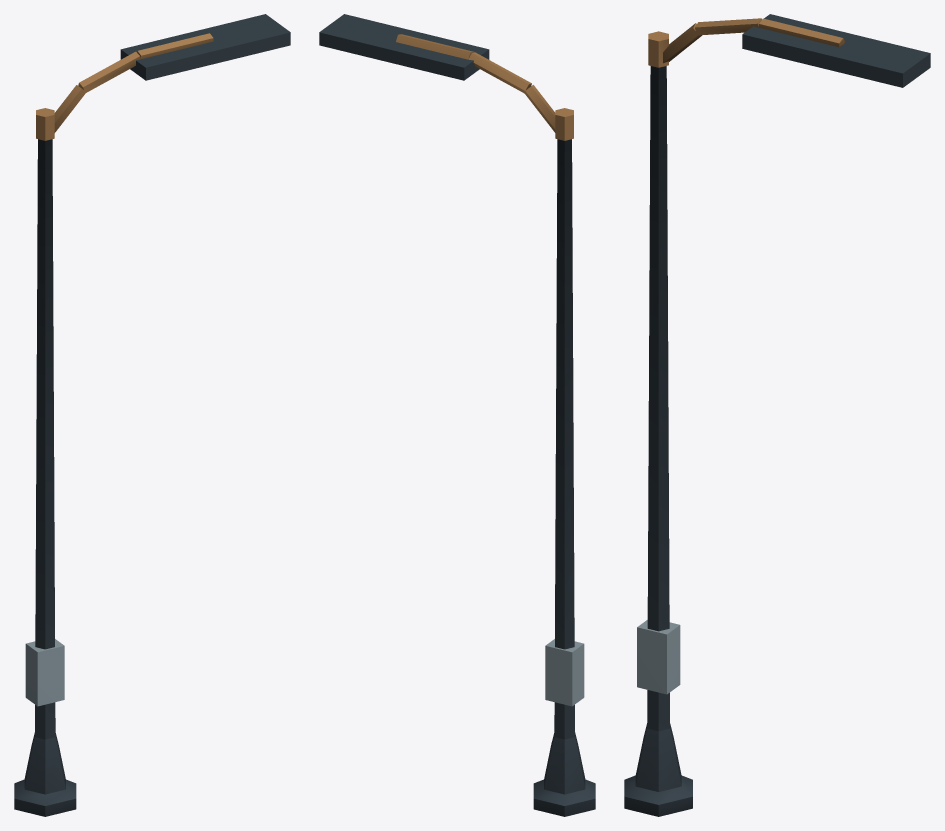
Rendered from street-lamp.lod2.glb.
3 renders of one model, left to right at view 1: azimuth 30°, elevation 25°; view 2: azimuth 150°, elevation 25°; view 3: azimuth 330°, elevation 25°, orthographic. The views are drawn at different scales.
Visible parts, largest first — view 1: structure; view 2: structure; view 3: structure.
Boxes of the visible parts, left/top/right/bottom form: structure: left=14, top=14, right=290, bottom=816; structure: left=319, top=14, right=595, bottom=816; structure: left=624, top=14, right=930, bottom=816.
Bounding box in the file's own units: 2.55 × 6.71 × 0.5195.
